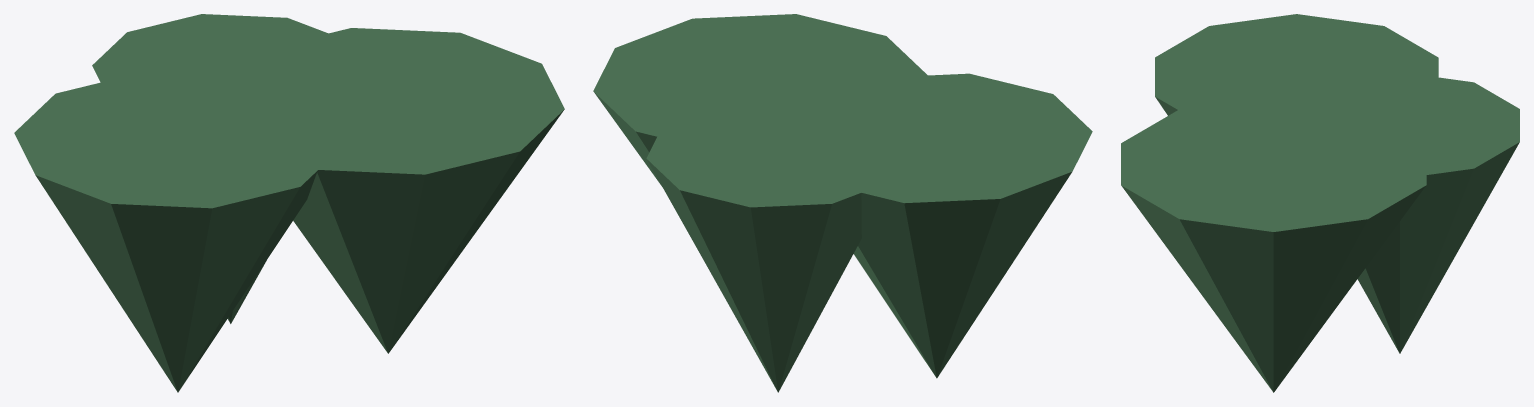
The model's file is shrub.glb.
3 views of the same model, side by side, from view 1: azimuth 30°, elevation 25°; view 2: azimuth 150°, elevation 25°; view 3: azimuth 270°, elevation 25° (orthographic). The views are drawn at different scales.
Parts seen in each view (by area): view 1: Leaf0, Leaf1, Leaf2; view 2: Leaf0, Leaf2, Leaf1; view 3: Leaf1, Leaf0, Leaf2.
Part boxes in pixels (<box>): Leaf0: <box>14,73,341,392</box>; Leaf1: <box>231,28,564,353</box>; Leaf2: <box>92,14,368,323</box>; Leaf0: <box>781,73,1092,378</box>; Leaf2: <box>646,98,909,392</box>; Leaf1: <box>593,14,928,185</box>; Leaf1: <box>1121,96,1426,392</box>; Leaf0: <box>1155,14,1438,139</box>; Leaf2: <box>1280,72,1519,353</box>.
Bounding box in the file's own units: 2.25 × 1.1 × 1.74.
